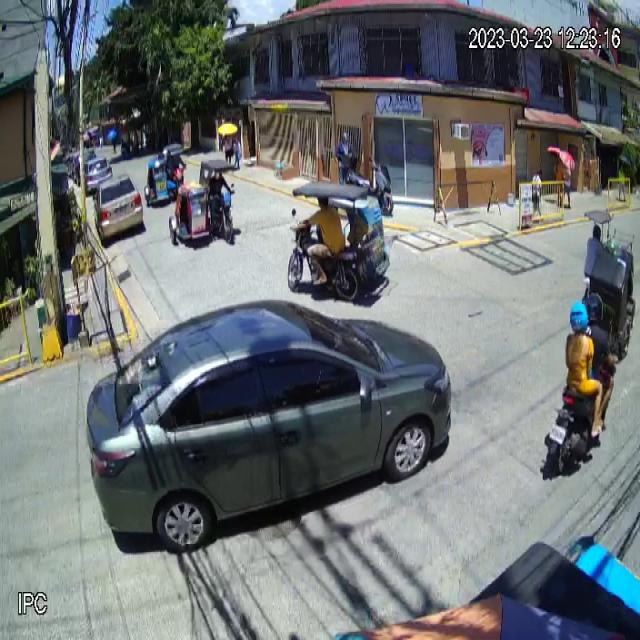Car: (86, 297, 452, 555)
Tricycle: (286, 180, 391, 299), (169, 157, 237, 245), (144, 142, 184, 206)
